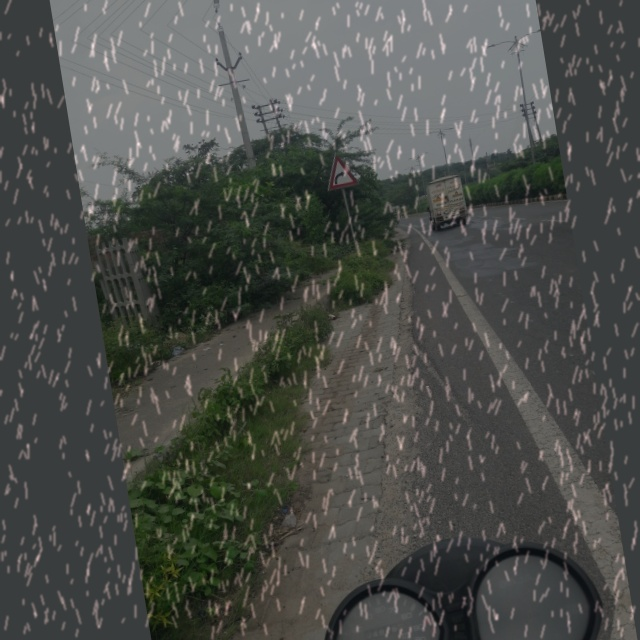Right_Hand_Curve: (319, 149, 362, 190)
